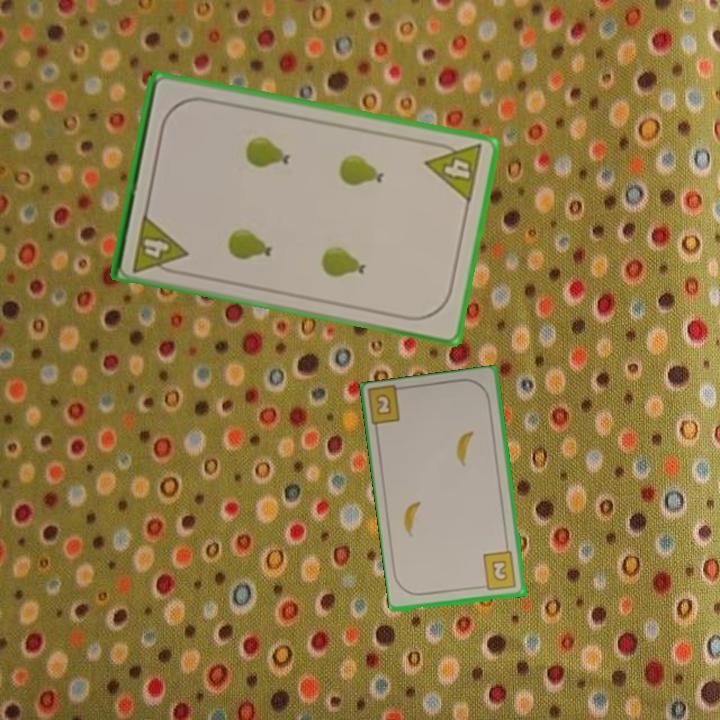2b: (477, 548, 519, 594), (372, 390, 395, 418)
4p: (422, 137, 486, 206), (129, 210, 190, 278)
